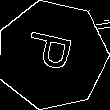P_E: (23, 31, 81, 79)
